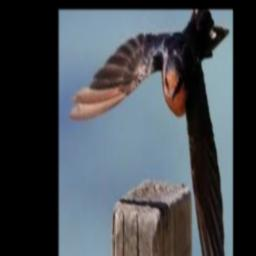Swallow: (69, 9, 229, 256)
